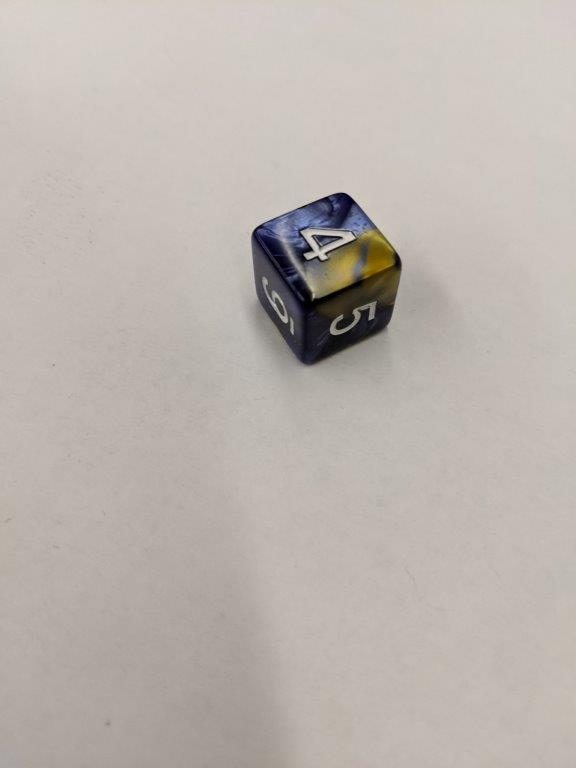d6-4: (252, 192, 402, 365)
